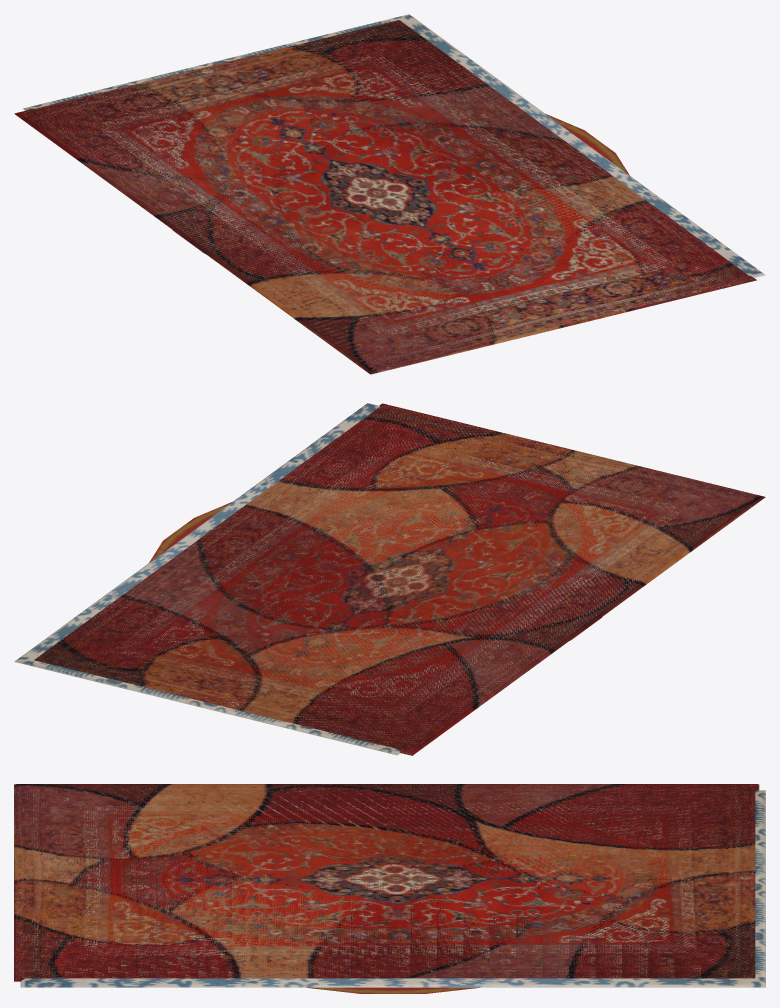
The model's file is Rugs.fbx.
The picture shows the model from 3 angles, top to bottom: view 1: azimuth 30°, elevation 25°; view 2: azimuth 150°, elevation 25°; view 3: azimuth 270°, elevation 25°; orthographic projection. The views are drawn at different scales.
Parts seen in each view (by area): view 1: RugLong_2, RugLong_5, RugLong_4, Rug_Round_1; view 2: RugLong_5, RugLong_2, RugLong_4, Rug_Round_1; view 3: RugLong_5, RugLong_2, RugLong_4, Rug_Round_1.
Boxes of the visible parts, box(x1,y1,x2,y2) form: RugLong_2: box(20, 20, 755, 374); RugLong_5: box(14, 20, 756, 374); RugLong_4: box(23, 14, 765, 277); Rug_Round_1: box(172, 114, 629, 253); RugLong_5: box(34, 403, 765, 755); RugLong_2: box(37, 405, 759, 755); RugLong_4: box(14, 403, 400, 755); Rug_Round_1: box(149, 502, 602, 640); RugLong_5: box(14, 784, 759, 981); RugLong_2: box(14, 784, 759, 980); RugLong_4: box(20, 790, 765, 987); Rug_Round_1: box(306, 987, 479, 993).
Size of the model in its own units: 199 by 0.8497 by 301.
Materials: 1 (1 with a texture image).
